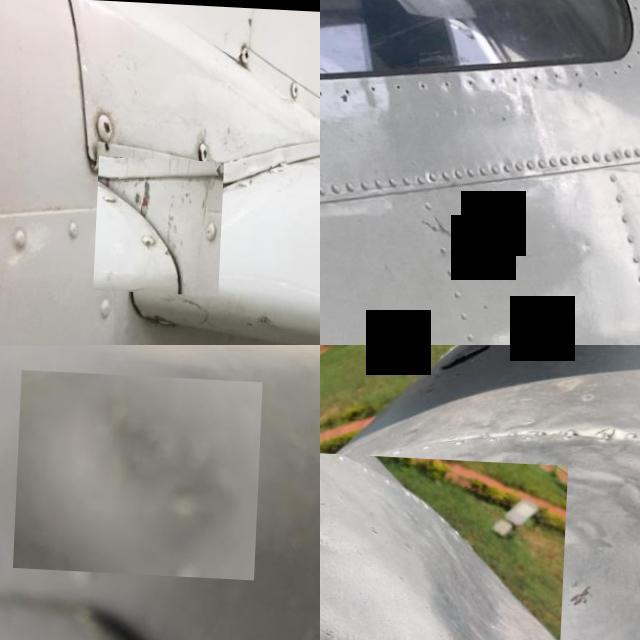Crack: (96, 154, 225, 294), (201, 5, 272, 76), (224, 292, 314, 338)
Dent: (16, 367, 264, 575), (320, 442, 570, 640), (592, 425, 640, 528)
